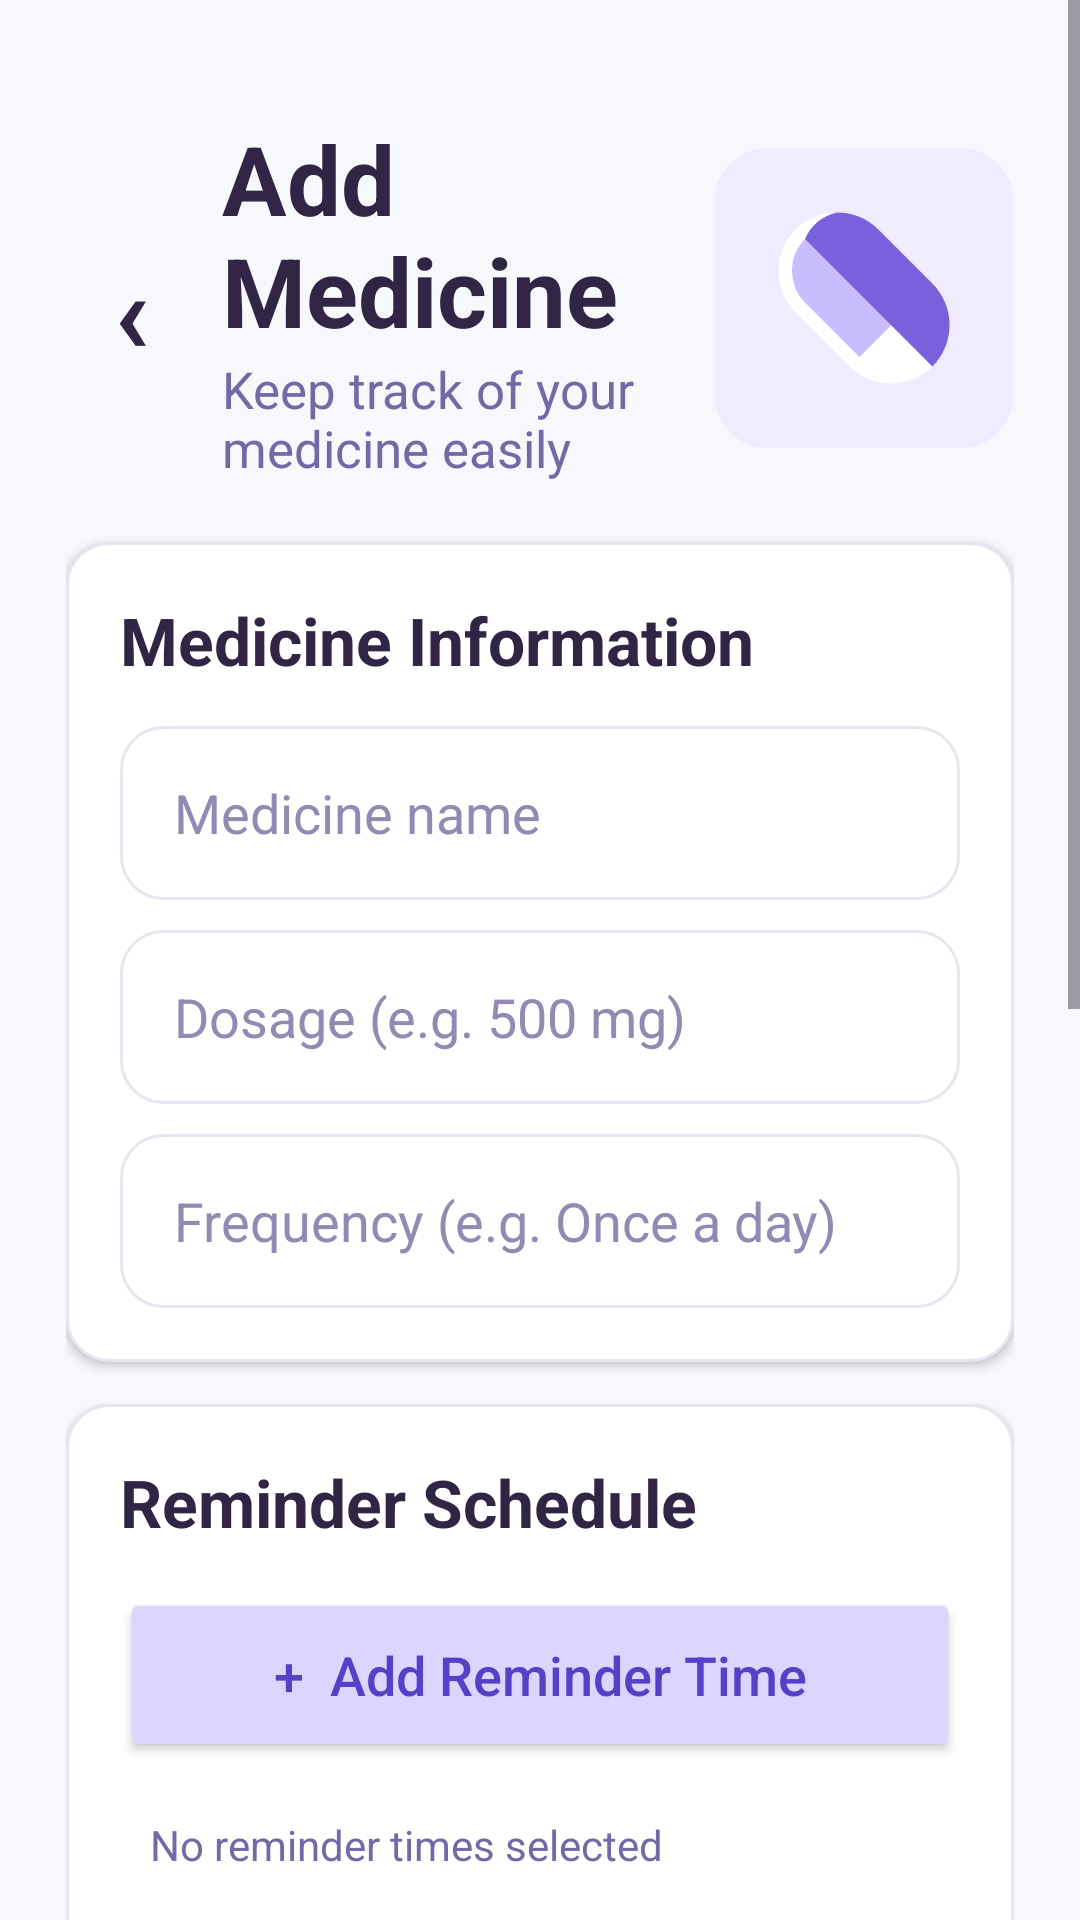

Where to tap for icons on this 1080px×1920px app screen, as [x,y]:
Medicine Details: [871,289]
